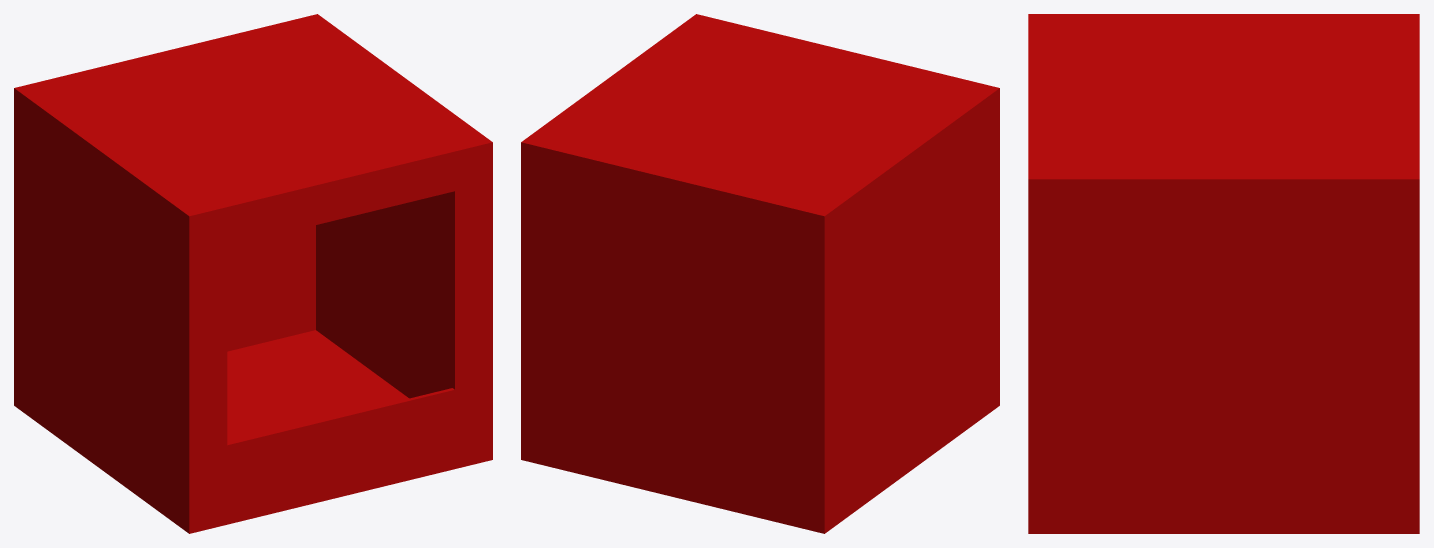
Rendered from BOMB_BOX.fbx.
The picture shows the model from 3 angles, left to right: view 1: azimuth 30°, elevation 25°; view 2: azimuth 150°, elevation 25°; view 3: azimuth 270°, elevation 25°; orthographic projection. The views are drawn at different scales.
Visible parts, largest first — view 1: NEWBombBox_Outer_low; view 2: NEWBombBox_Outer_low; view 3: NEWBombBox_Outer_low.
Part boxes in pixels (box(x1,y1,x2,y2)): NEWBombBox_Outer_low: box(14, 14, 492, 533); NEWBombBox_Outer_low: box(521, 14, 999, 533); NEWBombBox_Outer_low: box(1028, 14, 1419, 533).
Bounding box in the file's own units: 18 × 18 × 18.
